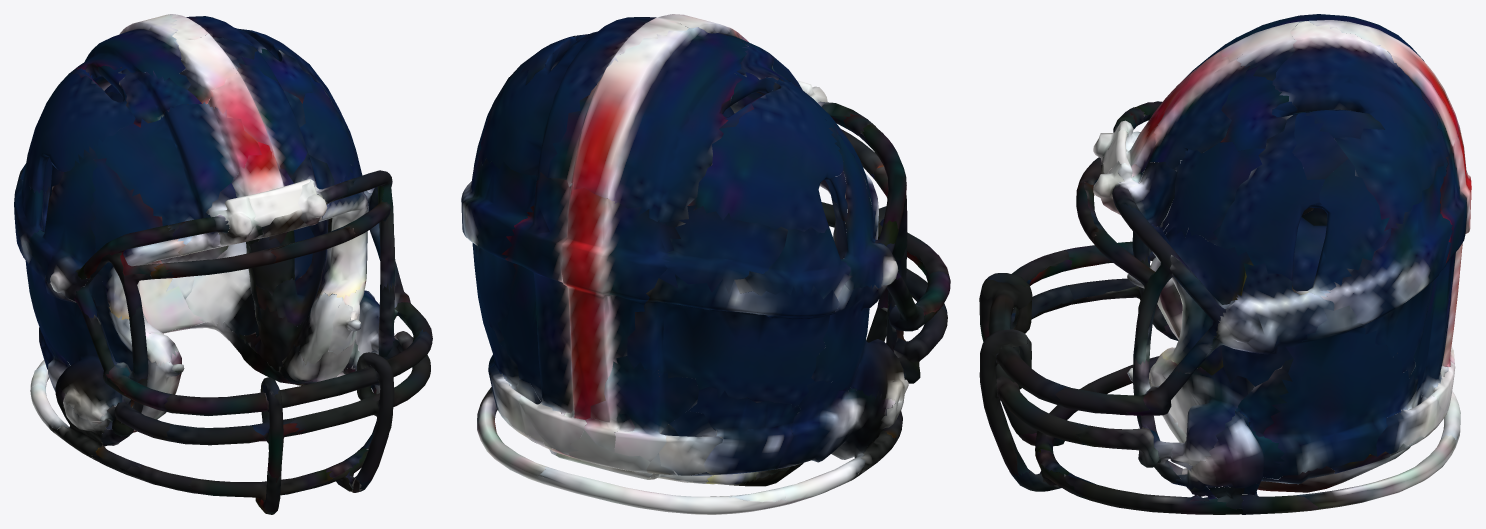
Rendered from helmet.glb.
3 views of the same model, side by side, from view 1: azimuth 30°, elevation 25°; view 2: azimuth 150°, elevation 25°; view 3: azimuth 270°, elevation 25° (orthographic). The views are drawn at different scales.
Parts seen in each view (by area): view 1: helmet; view 2: helmet; view 3: helmet.
Part boxes in pixels (<box>): helmet: <box>14,14,432,514</box>; helmet: <box>461,14,950,514</box>; helmet: <box>979,14,1471,514</box>.
Size of the model in its own units: 0.2696 by 0.3003 by 0.3055.
Materials: 1 (1 with a texture image).
